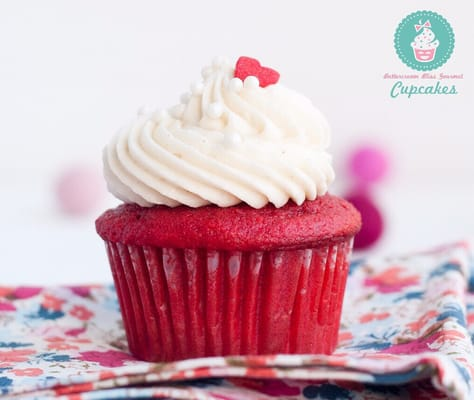sushi: (94, 52, 362, 363)
